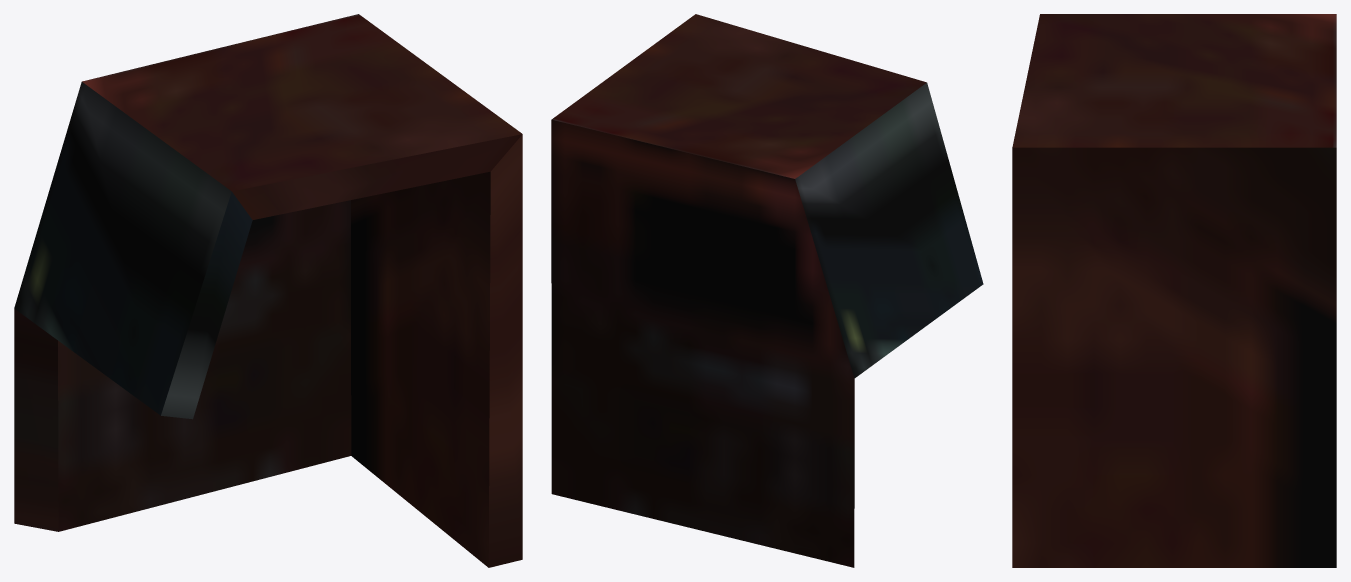
Rendered from Shared - Armor - Tanker Truck - Damage State 02 - CVTanker_d02.glb.
3 renders of one model, left to right at view 1: azimuth 30°, elevation 25°; view 2: azimuth 150°, elevation 25°; view 3: azimuth 270°, elevation 25°, orthographic. The views are drawn at different scales.
Visible parts, largest first — view 1: CVTANKER_D02; view 2: CVTANKER_D02; view 3: CVTANKER_D02.
Boxes of the visible parts, x1,y1,x2,y2 form: CVTANKER_D02: (14, 14, 522, 567); CVTANKER_D02: (551, 14, 983, 567); CVTANKER_D02: (1012, 14, 1336, 567).
Bounding box in the file's own units: 5.52 × 6.52 × 4.55.
1 material, 1 textured.
